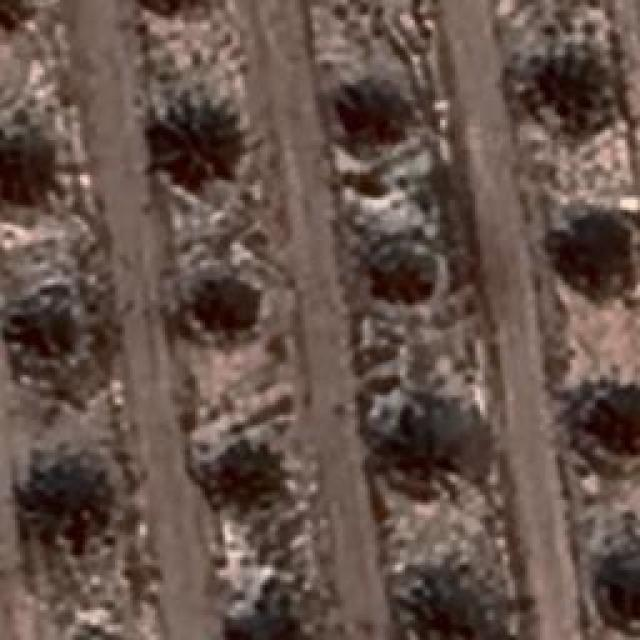PalmTree: (508, 42, 610, 148), (28, 462, 122, 576), (148, 88, 242, 190), (214, 438, 292, 530), (559, 202, 629, 292), (382, 396, 468, 469), (0, 117, 72, 200), (338, 90, 420, 160), (416, 570, 494, 640), (18, 280, 80, 368), (200, 276, 265, 352), (366, 240, 436, 302), (585, 380, 640, 455), (240, 602, 318, 640), (600, 538, 640, 610), (0, 0, 35, 38)
